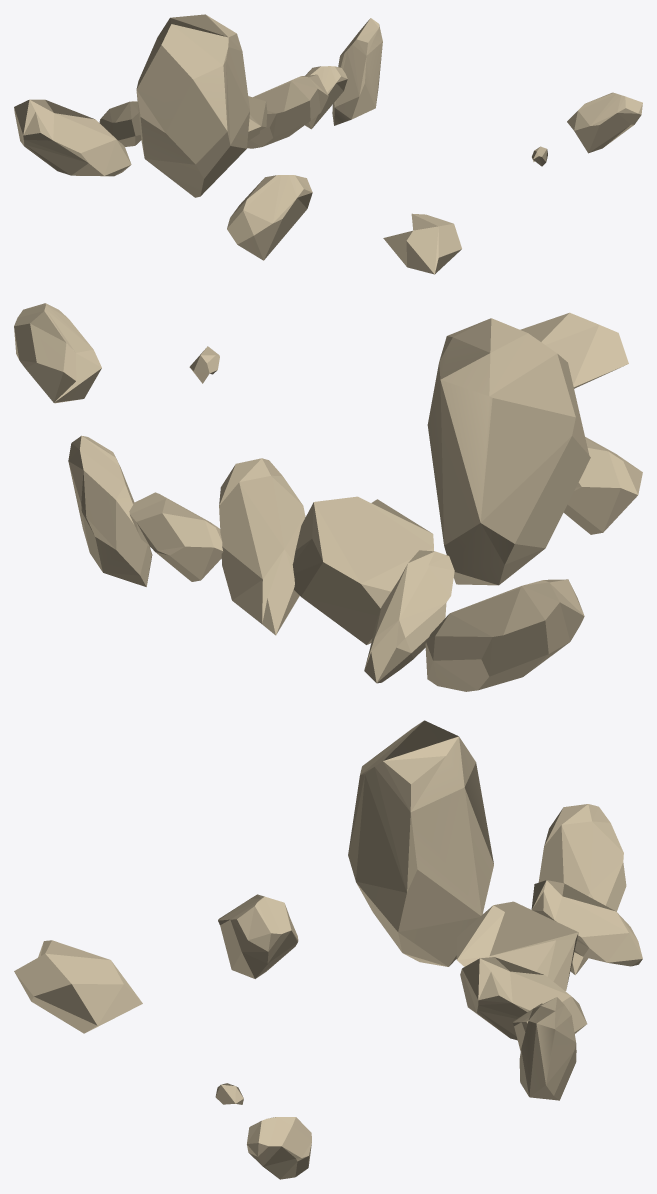
File: Green_7.glb
The picture shows the model from 3 angles, top to bottom: view 1: azimuth 30°, elevation 25°; view 2: azimuth 150°, elevation 25°; view 3: azimuth 270°, elevation 25°; orthographic projection. The views are drawn at different scales.
Visible parts, largest first — view 1: polySurface10935; view 2: polySurface10935; view 3: polySurface10935.
Part boxes in pixels (left/top/right/bottom): polySurface10935: left=14, top=14, right=642, bottom=274; polySurface10935: left=14, top=303, right=642, bottom=691; polySurface10935: left=14, top=720, right=642, bottom=1179.
Size of the model in its own units: 41.96 by 15.74 by 35.6.
